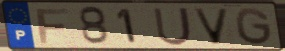1: (115, 7, 138, 45)
8: (77, 5, 110, 47)
F: (34, 7, 71, 45)
G: (233, 7, 275, 47)
U: (151, 6, 194, 47)
V: (191, 7, 232, 46)
